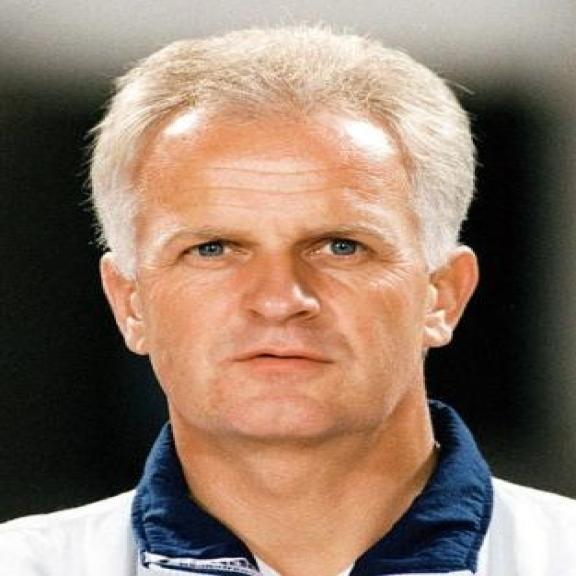face: (95, 41, 488, 464)
